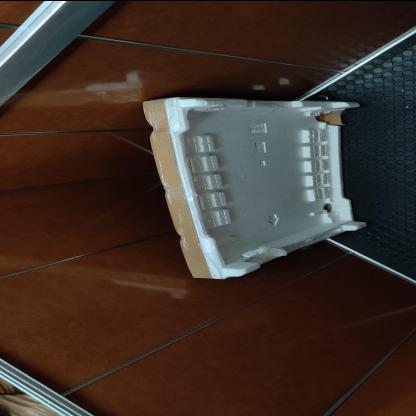kopuk: (138, 98, 370, 280)
